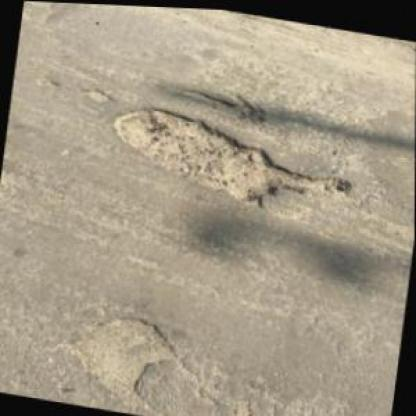pothole: (103, 97, 362, 222), (74, 308, 182, 414), (176, 80, 272, 125), (80, 83, 112, 104)
